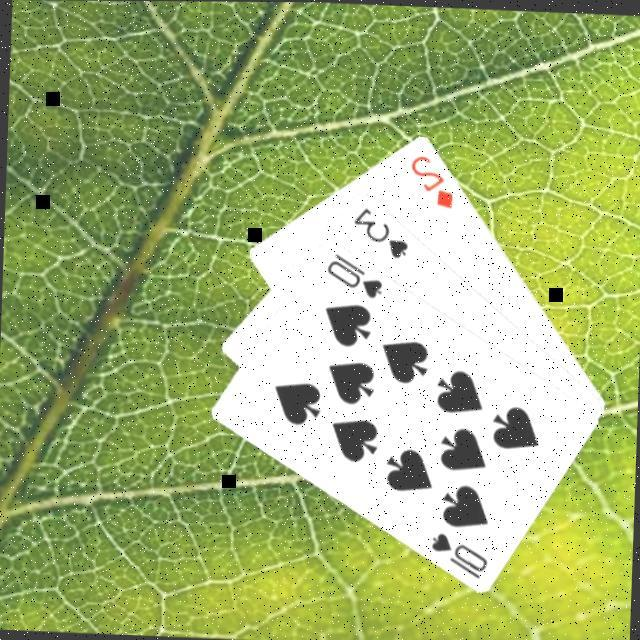10S: (426, 528, 492, 582), (322, 250, 388, 302)
2D: (406, 151, 460, 212)
3S: (349, 204, 413, 263)
